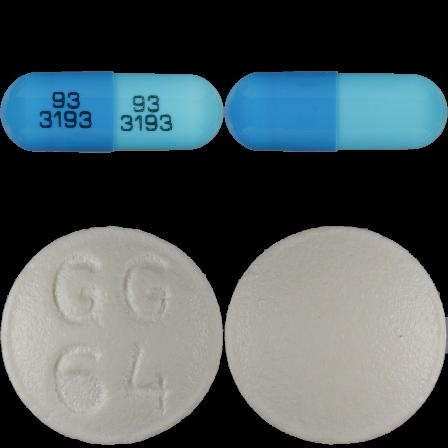63629-3642: (0, 0, 224, 224)
